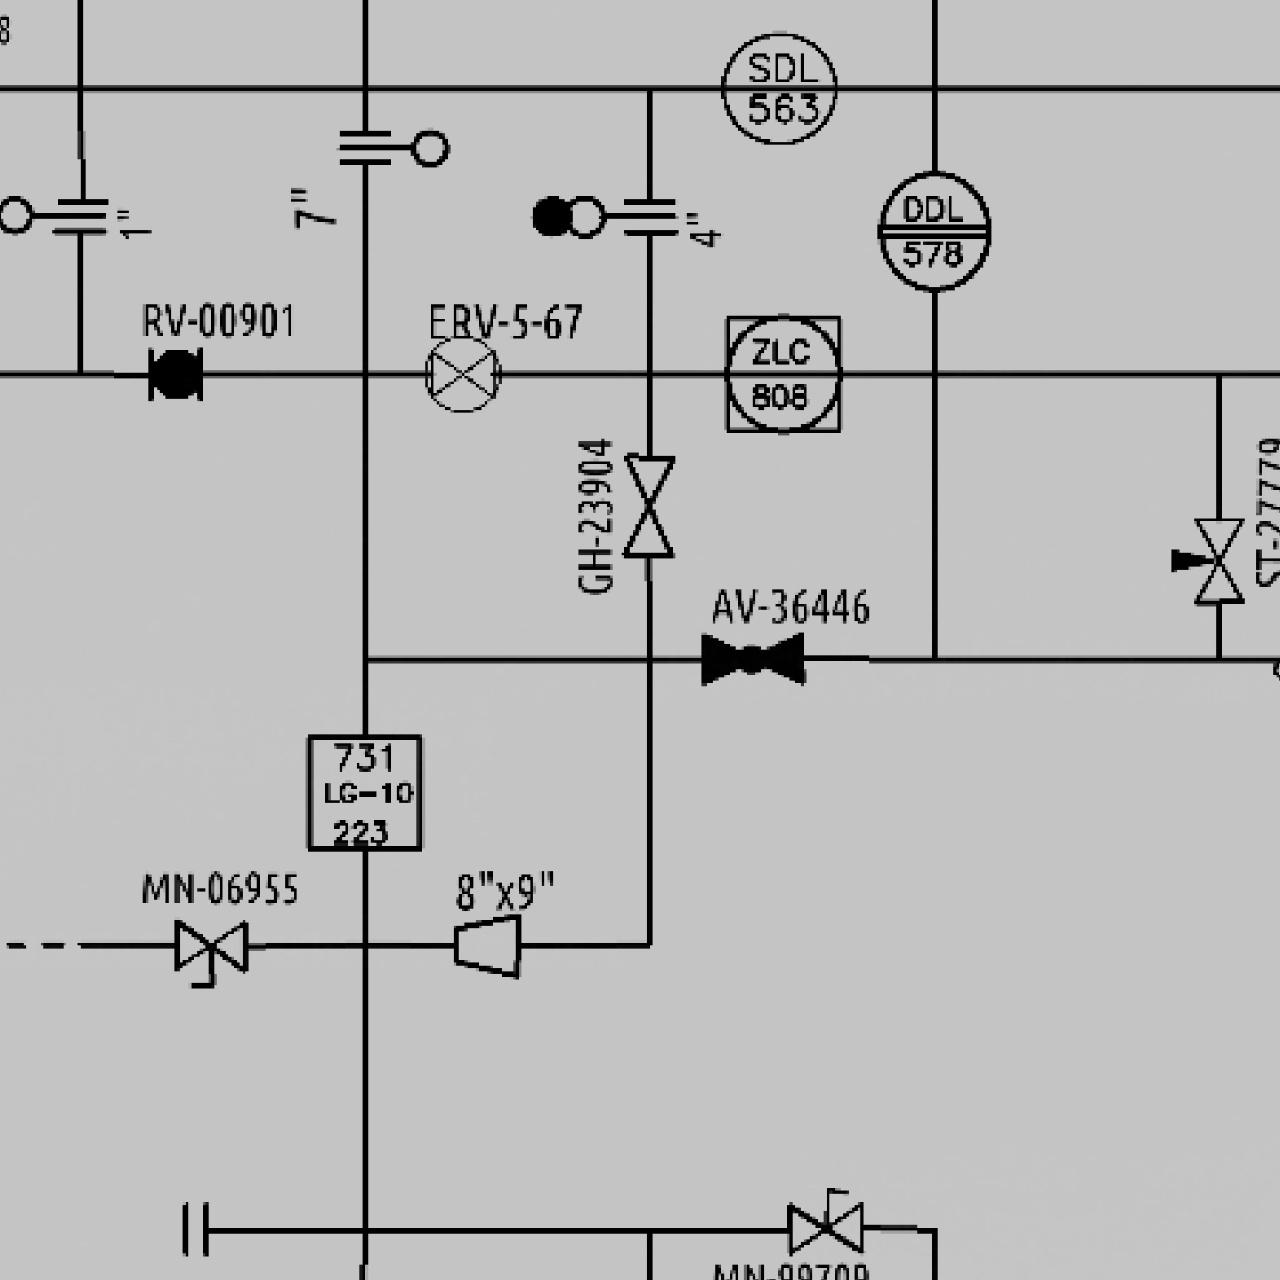Control-Panel: (866, 166, 994, 295)
